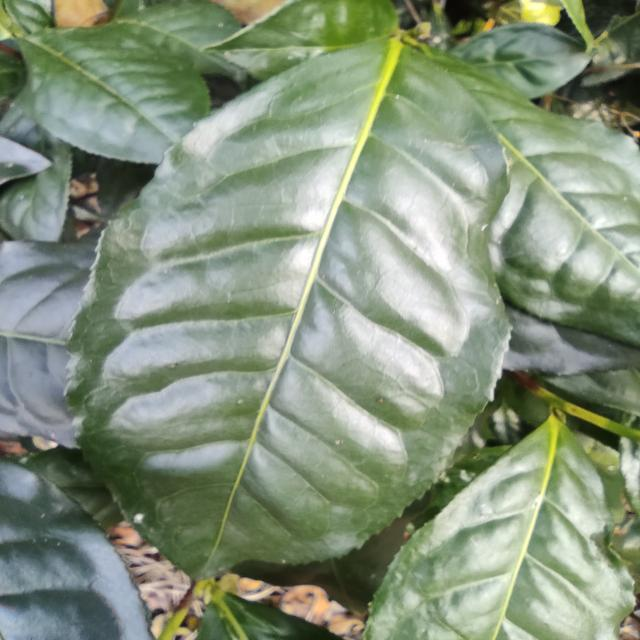Category D 7+ days, Not for Tea: (46, 31, 522, 597)
